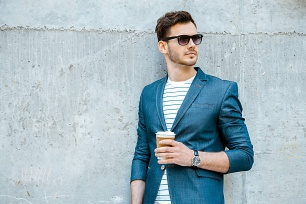male: (157, 12, 204, 72)
